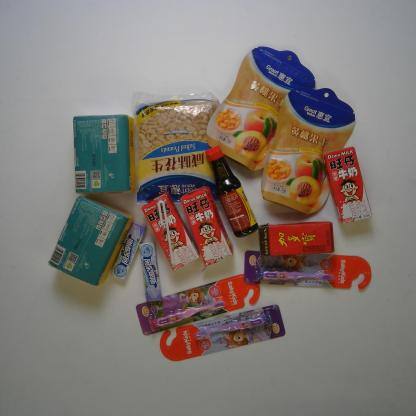Candy: (110, 220, 147, 284), (136, 238, 164, 307)
Dried Fruit: (204, 44, 320, 174), (258, 85, 358, 216), (131, 87, 223, 208)
Drink: (254, 217, 338, 259)
Milk: (138, 193, 204, 274), (177, 185, 238, 270), (320, 145, 374, 228)
Personal Hygiene: (130, 272, 262, 338), (155, 302, 288, 364), (240, 249, 376, 292)
Seasoner: (200, 144, 262, 238)
Tissue: (46, 189, 135, 292), (69, 112, 133, 198)
